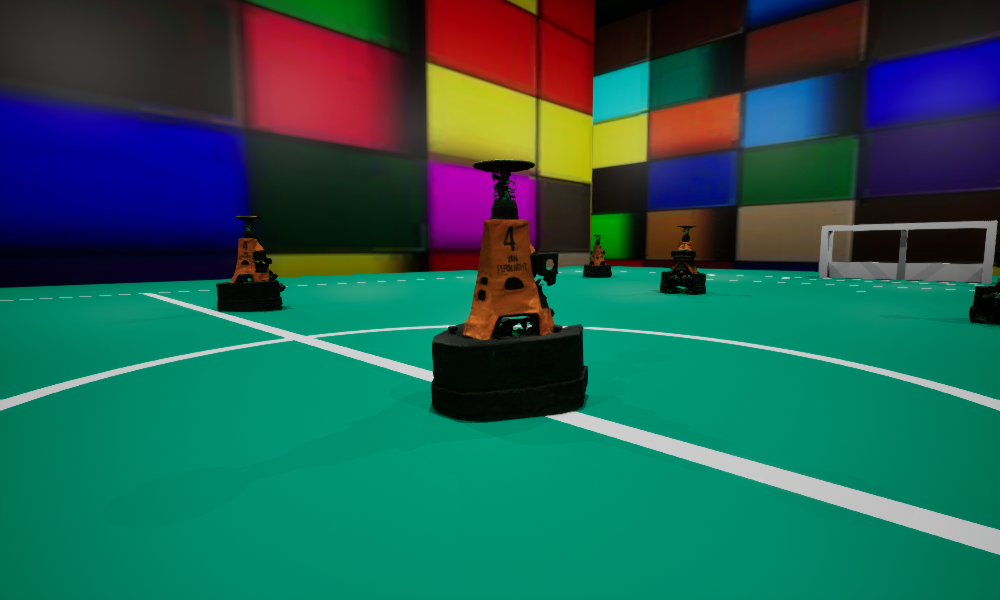o: (431, 159, 587, 421), (216, 216, 285, 311), (660, 226, 705, 293), (969, 251, 999, 323), (583, 235, 611, 277)
